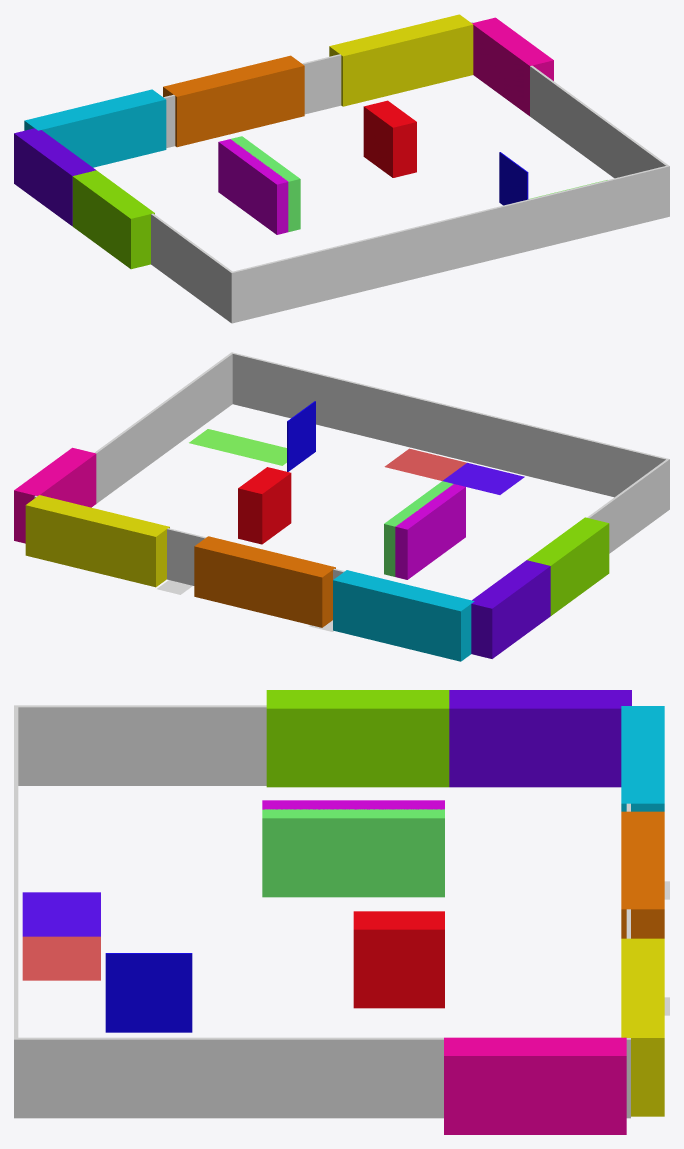
The model's file is shop.dae.
The picture shows the model from 3 angles, top to bottom: view 1: azimuth 30°, elevation 25°; view 2: azimuth 150°, elevation 25°; view 3: azimuth 270°, elevation 25°; orthographic projection. The views are drawn at different scales.
Visible parts, largest first — view 1: wall_south, section_vegetable, sectinon_meat, section_seafood, wall_east, section_electronics, wc, wall_west, section_snacks, section_frizer, section_beverage, wall_north (+2 smaller); view 2: wall_south, section_vegetable, sectinon_meat, section_seafood, wall_east, section_snacks, section_electronics, section_frizer, wc, wall_west, section_beverage, pinky_wait_section (+4 smaller); view 3: wall_east, wall_west, section_electronics, wc, section_snacks, section_refriger, section_beverage, section_vegetable, divider, pinky_wait_section, sectinon_meat, section_seafood (+2 smaller).
Part boxes in pixels (x1,y1,x2,y2): wall_south: (233,166,667,322); section_vegetable: (329,14,473,106); sectinon_meat: (163,55,304,147); section_seafood: (24,89,166,167); wall_east: (471,22,669,216); section_electronics: (72,170,154,269); wc: (472,17,553,116); wall_west: (151,213,234,323); section_snacks: (14,128,95,226); section_frizer: (218,139,288,234); section_beverage: (363,100,416,177); wall_north: (163,54,341,147); wall_south: (232,353,667,497); section_vegetable: (25,495,169,587); sectinon_meat: (194,536,335,627); section_seafood: (333,570,474,661); wall_east: (34,352,233,503); section_snacks: (471,560,550,658); section_electronics: (527,517,609,615); section_frizer: (395,484,465,579); wc: (14,447,96,543); wall_west: (587,458,669,553); section_beverage: (238,467,291,544); pinky_wait_section: (384,448,524,494); wall_east: (14,1037,630,1118); wall_west: (14,705,266,785); section_electronics: (266,690,449,787); wc: (444,1037,626,1134); section_snacks: (449,690,631,787); section_refriger: (262,809,444,897); section_beverage: (353,911,444,1008); section_vegetable: (621,938,664,1116); divider: (105,953,192,1032); pinky_wait_section: (22,892,100,980); sectinon_meat: (621,811,664,938); section_seafood: (621,706,664,811).
Bounding box in the file's own units: 1.99 × 1.51 × 0.1996.
